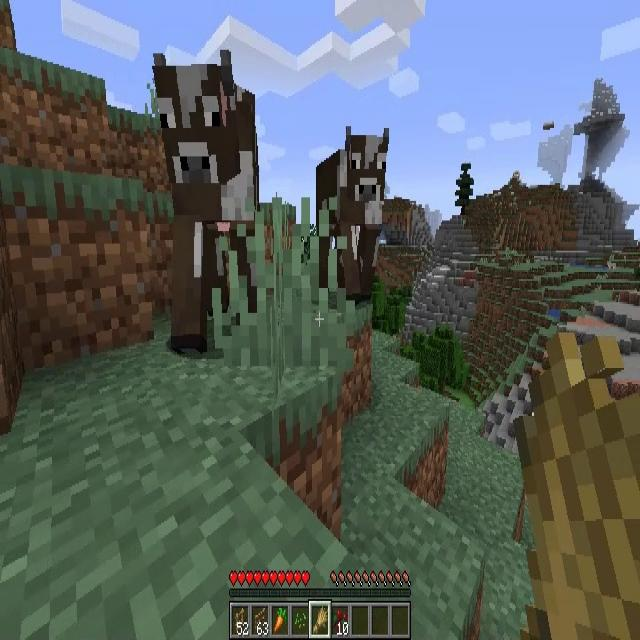cow: (152, 49, 259, 354), (316, 125, 392, 299)
